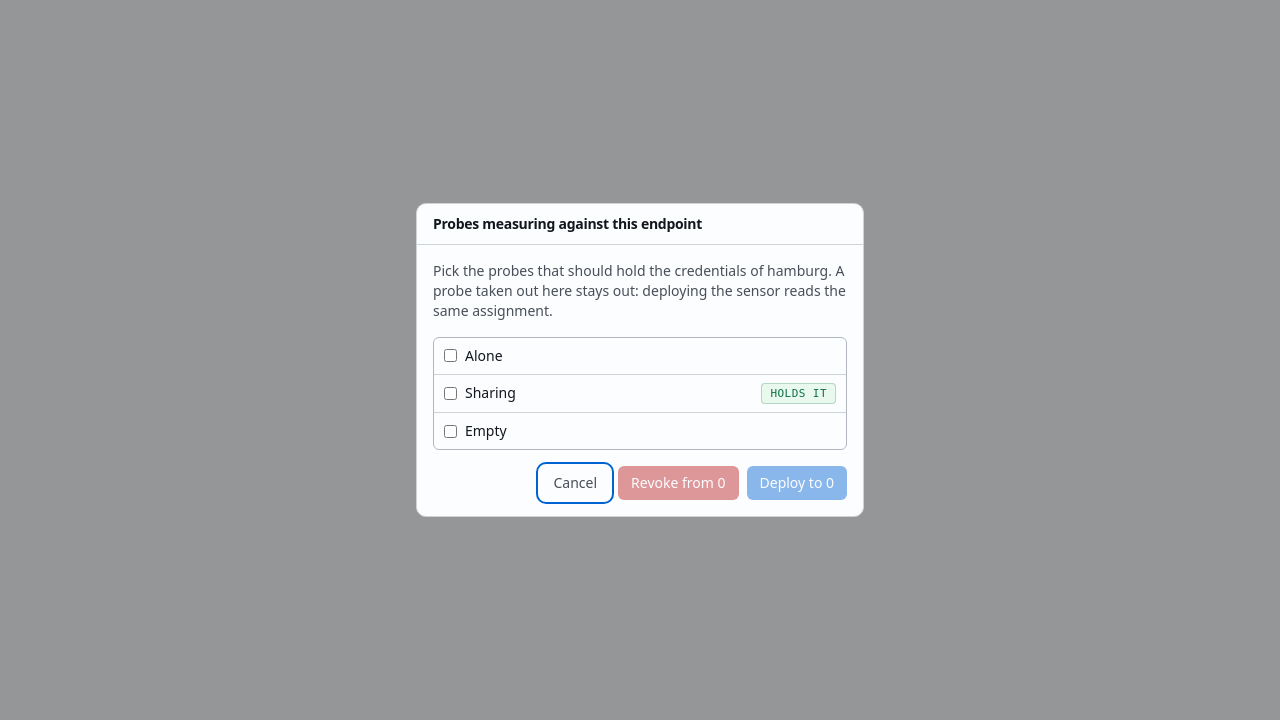
Test: assigning an endpoint › says the alias comes back when the second one is taken away
The width and height of the screenshot is (1280, 720).
Click the checkbox labelled "Sharing holds it" at (450, 394), box [444,387,457,400]
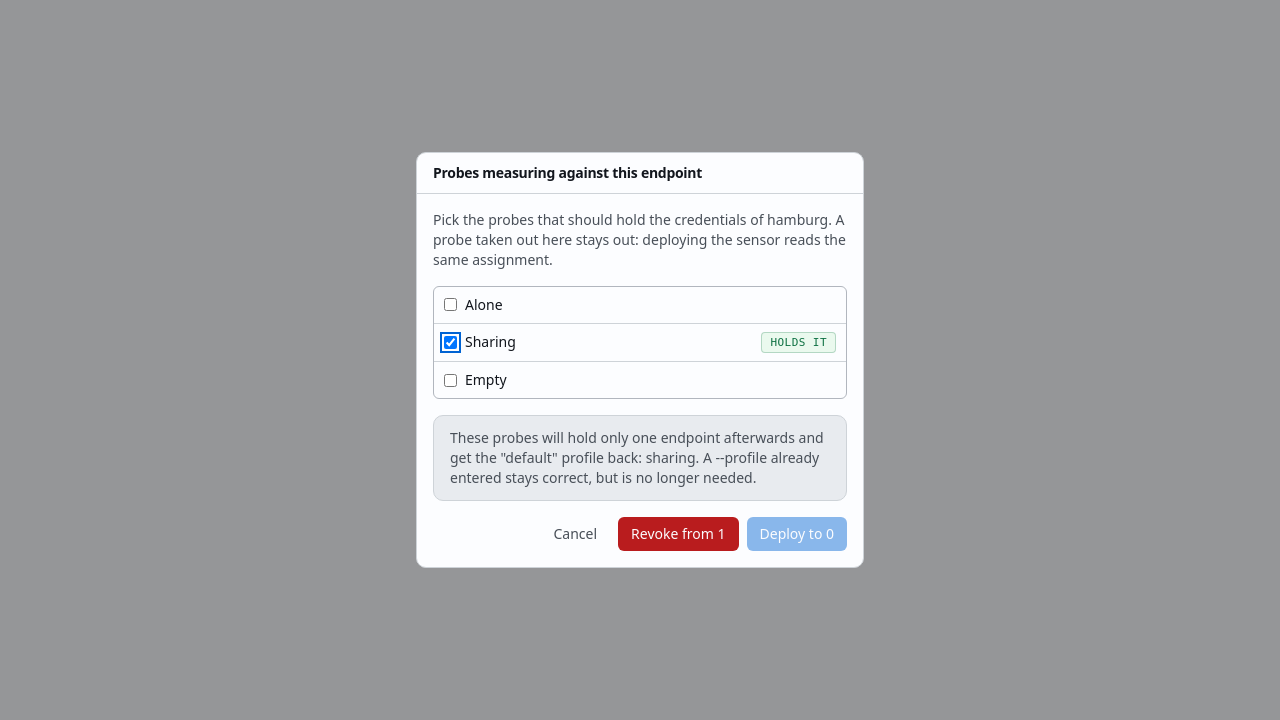
Result: the text "get the \"default\" profile back" shows "sharing" at [450,428,824,487]
